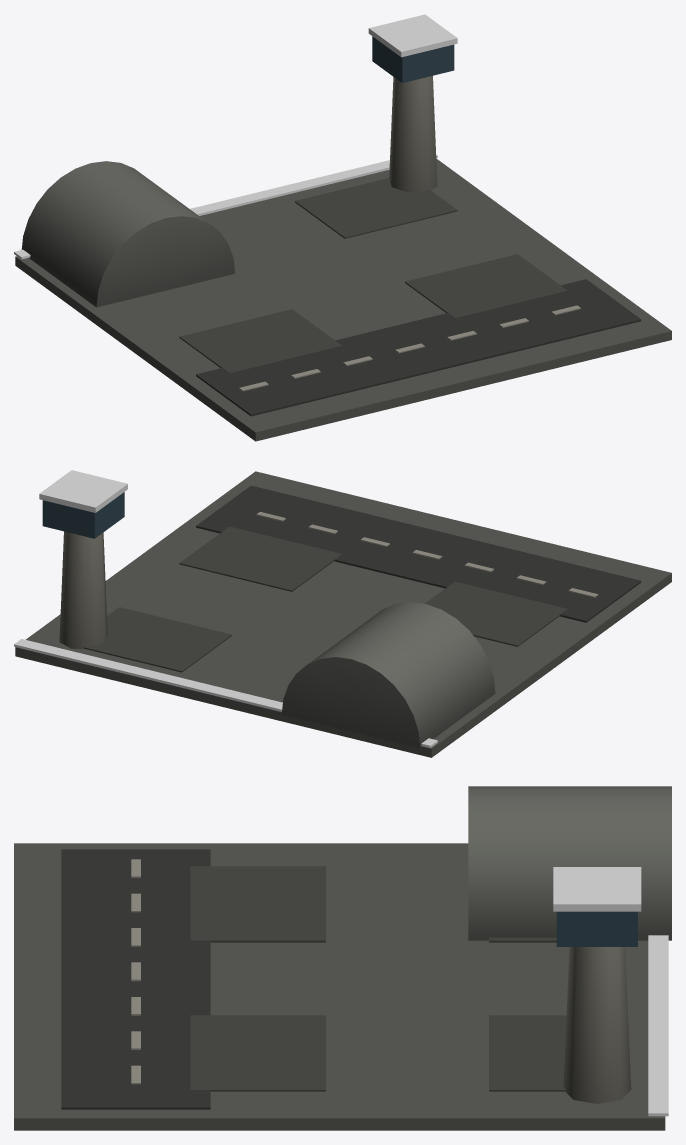
Rendered from m_airfield_1819ee04.glb.
3 views of the same model, one above another, from view 1: azimuth 30°, elevation 25°; view 2: azimuth 150°, elevation 25°; view 3: azimuth 270°, elevation 25° (orthographic). The views are drawn at different scales.
Parts seen in each view (by area): view 1: mesh; view 2: mesh; view 3: mesh.
Boxes of the visible parts, box(x1,y1,x2,y2) form: mesh: box(14, 14, 671, 441); mesh: box(14, 470, 671, 757); mesh: box(14, 786, 671, 1130).
Bounding box in the file's own units: 96 × 35.2 × 97.
